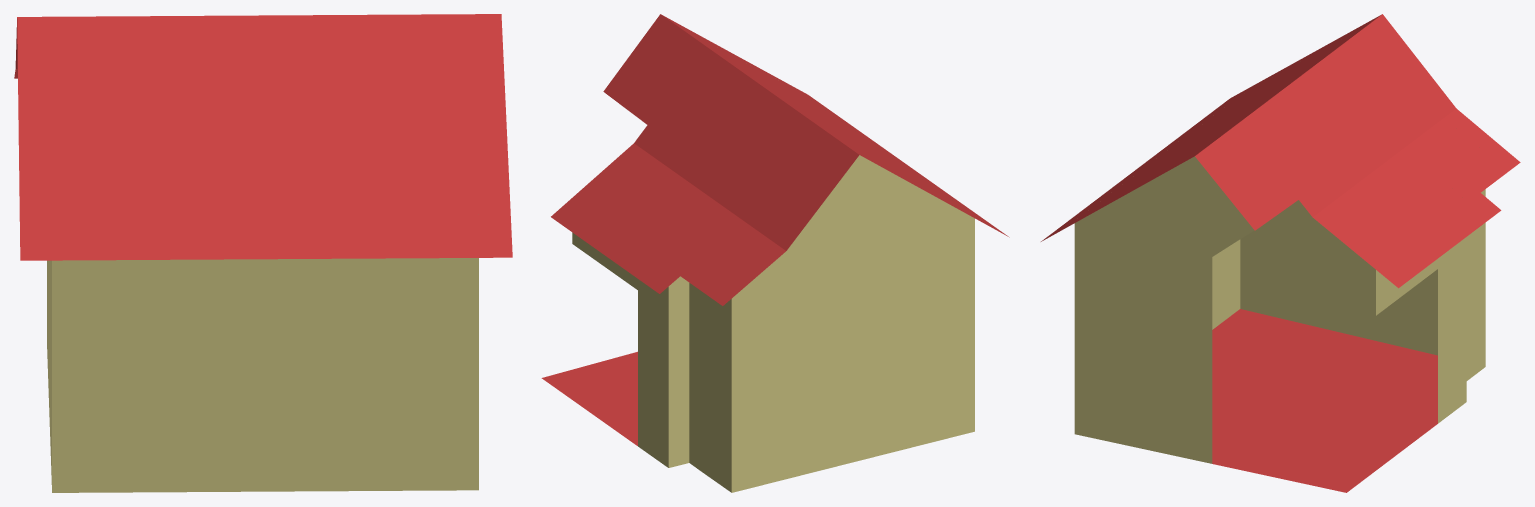
3 renders of one model, left to right at view 1: azimuth 30°, elevation 25°; view 2: azimuth 150°, elevation 25°; view 3: azimuth 270°, elevation 25°, orthographic. The views are drawn at different scales.
Bounding box in the file's own units: 18.34 × 18.76 × 13.59.
